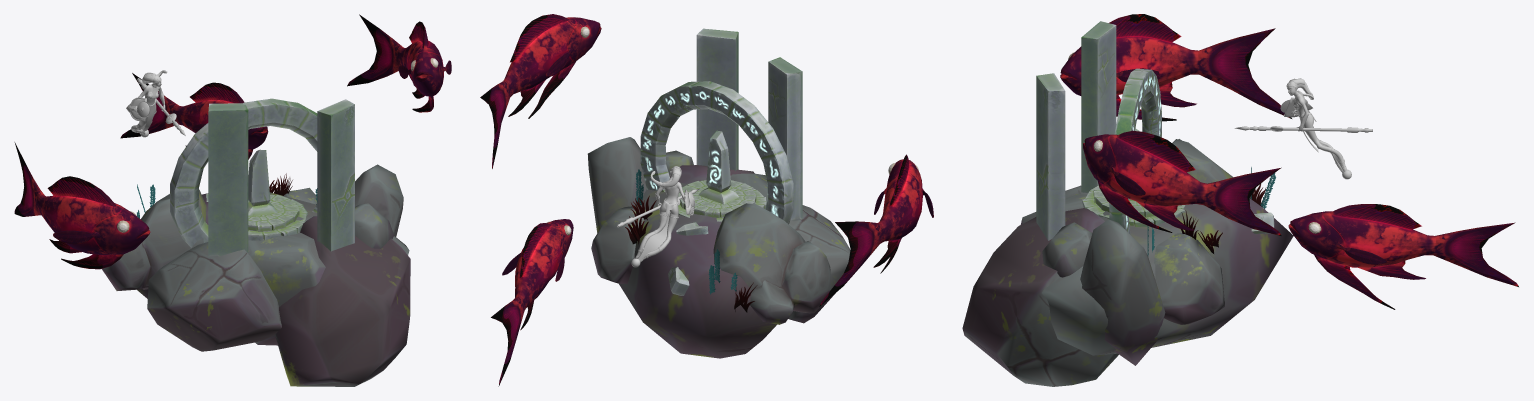
3 views of the same model, side by side, from view 1: azimuth 30°, elevation 25°; view 2: azimuth 150°, elevation 25°; view 3: azimuth 270°, elevation 25° (orthographic). The views are drawn at different scales.
Visible parts, largest first — view 1: Rock_08, Rock_05, Side_fish_pose_01, rock_pilllar_02, rock_pilllar_01, time_rock_arch, Side_fish_pose_02, Rock_06, Rock_04, time_stone, Side_fish_pose_straight, Rock_02 (+3 smaller); view 2: Rock_07, Rock_06, time_rock_arch, Side_fish_pose_02, Side_fish_pose_01, Side_fish_pose_straight, rock_pilllar_01, rock_pilllar_02, Rock_02, time_stone, Rock_09, sea_warrior (+5 smaller); view 3: Rock_08, Rock_07, Side_fish_pose_straight, Side_fish_pose_02, Side_fish_pose_01, Rock_02, Rock_09, rock_pilllar_01, rock_pilllar_02, time_rock_arch, sea_warrior, Rock_01 (+2 smaller).
Part boxes in pixels (bbox=[...]): Rock_08: bbox=[275, 216, 410, 386]; Rock_05: bbox=[147, 242, 281, 351]; Side_fish_pose_01: bbox=[14, 142, 150, 269]; rock_pilllar_02: bbox=[208, 103, 248, 257]; rock_pilllar_01: bbox=[317, 99, 354, 251]; time_rock_arch: bbox=[170, 98, 317, 247]; Side_fish_pose_02: bbox=[347, 14, 451, 112]; Rock_06: bbox=[102, 189, 206, 290]; Rock_04: bbox=[248, 232, 325, 345]; time_stone: bbox=[248, 149, 307, 240]; Side_fish_pose_straight: bbox=[120, 73, 268, 159]; Rock_02: bbox=[355, 164, 403, 236]; Rock_07: bbox=[619, 182, 776, 358]; Rock_06: bbox=[713, 203, 830, 324]; time_rock_arch: bbox=[640, 81, 793, 224]; Side_fish_pose_02: bbox=[480, 14, 601, 168]; Side_fish_pose_01: bbox=[819, 154, 933, 306]; Side_fish_pose_straight: bbox=[491, 219, 573, 386]; rock_pilllar_01: bbox=[696, 28, 738, 171]; rock_pilllar_02: bbox=[768, 57, 802, 221]; Rock_02: bbox=[587, 137, 646, 232]; time_stone: bbox=[678, 130, 766, 222]; Rock_09: bbox=[591, 205, 645, 283]; sea_warrior: bbox=[617, 166, 699, 267]; Rock_08: bbox=[962, 208, 1118, 386]; Rock_07: bbox=[1042, 198, 1293, 355]; Side_fish_pose_straight: bbox=[1288, 204, 1518, 309]; Side_fish_pose_02: bbox=[1083, 130, 1281, 235]; Side_fish_pose_01: bbox=[1060, 14, 1291, 121]; Rock_02: bbox=[1080, 219, 1165, 365]; Rock_09: bbox=[1154, 233, 1224, 324]; rock_pilllar_01: bbox=[1036, 73, 1065, 240]; rock_pilllar_02: bbox=[1081, 21, 1116, 192]; time_rock_arch: bbox=[1109, 68, 1161, 234]; sea_warrior: bbox=[1234, 78, 1372, 179]; Rock_01: bbox=[1042, 222, 1092, 277].
Size of the model in its own units: 1320 by 888 by 1452.
